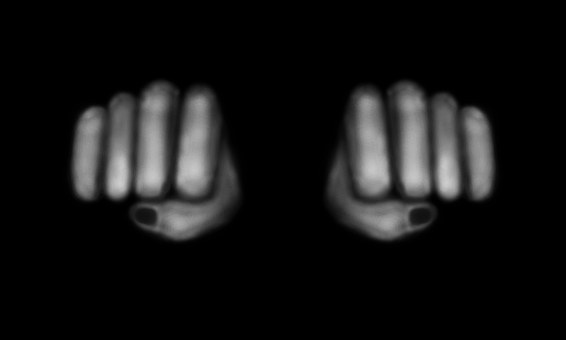fist: (77, 78, 251, 243), (330, 80, 506, 238)
